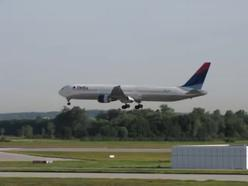aircraft: (57, 61, 211, 109)
